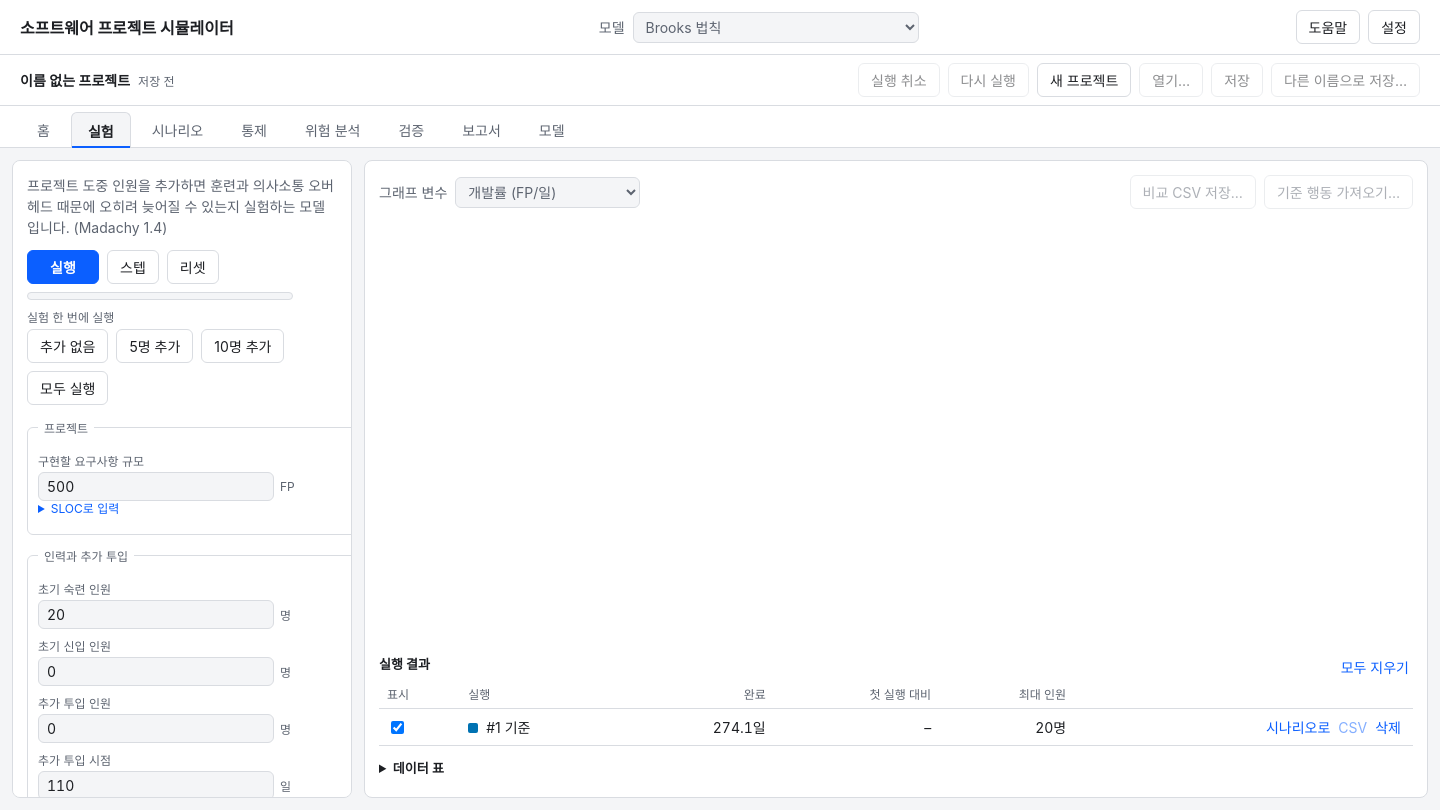
Test: 모든 탭을 그려 본다 (화면 스모크) › 시나리오 탭이 오류 없이 그려진다
Click the tab "시나리오" at x=177, y=130, box [135,112,220,147]
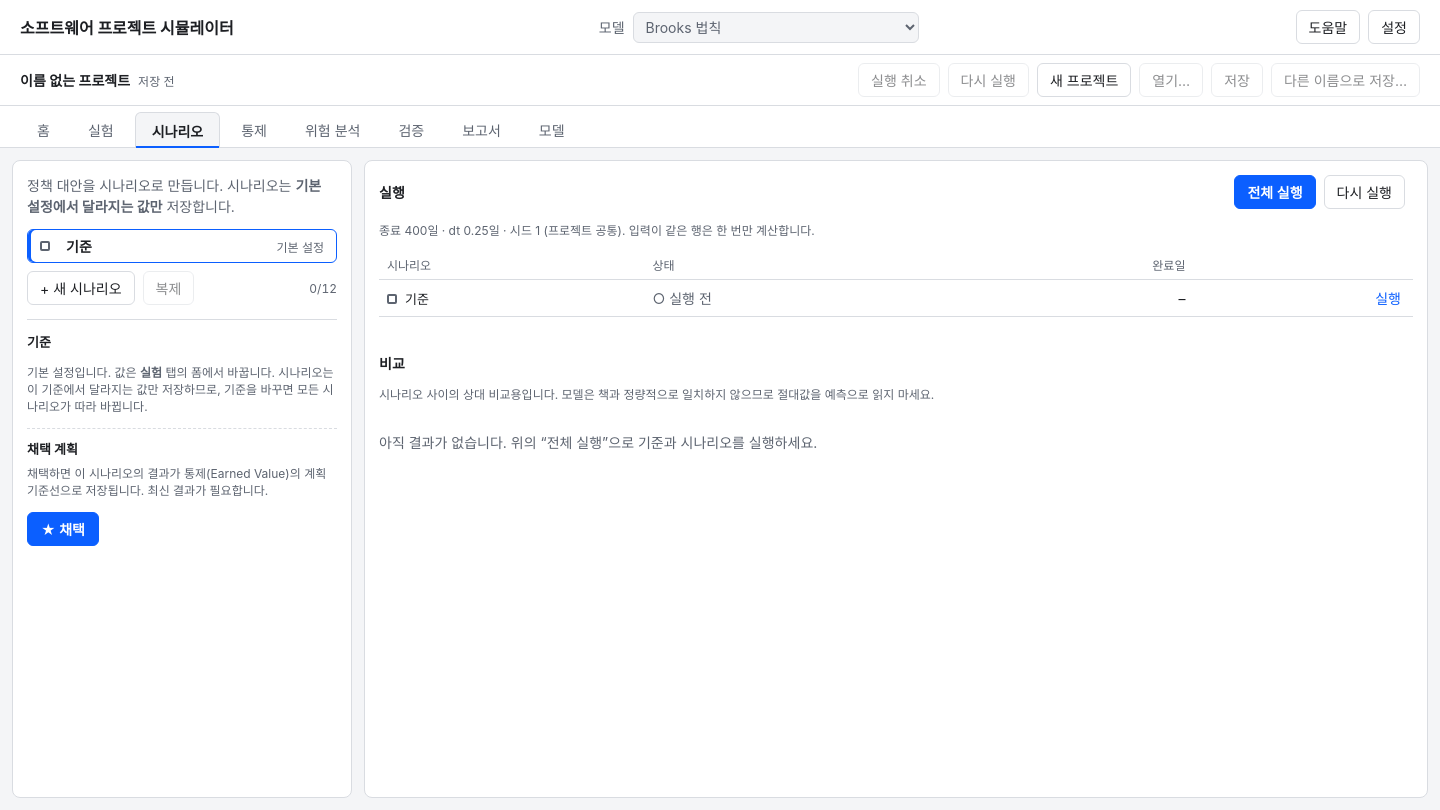
expect the panel is shown: met
